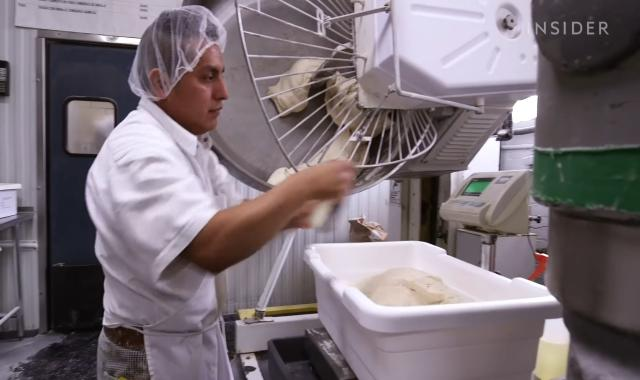hairnet: (126, 7, 229, 99)
